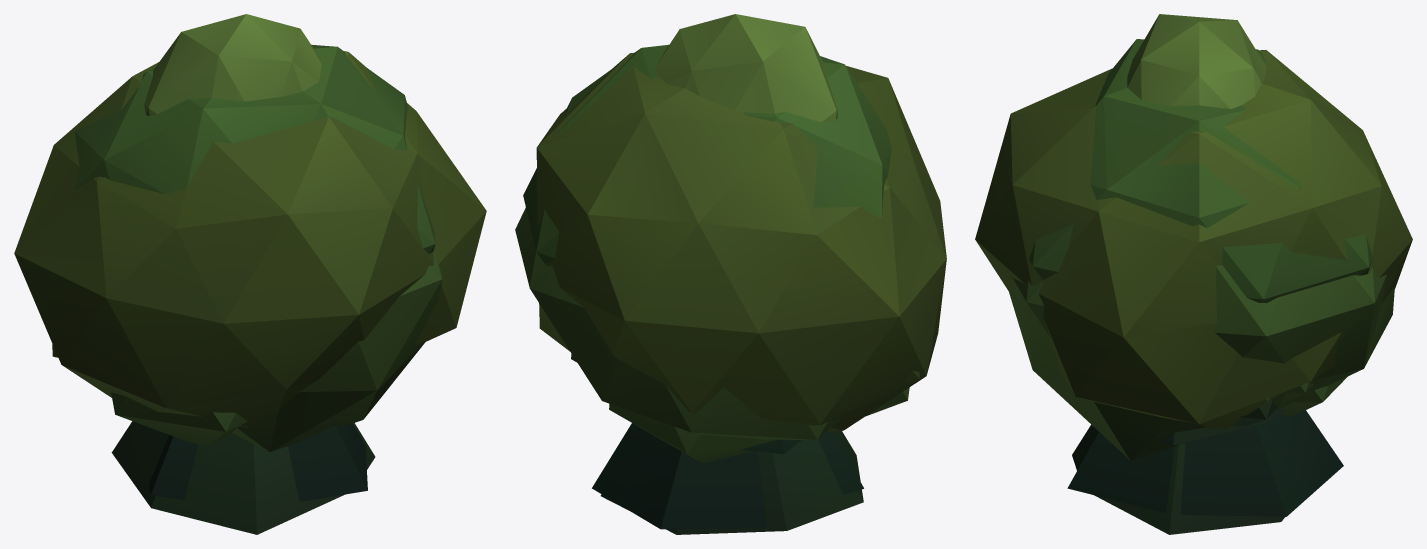
Rendered from trees.glb.
3 views of the same model, side by side, from view 1: azimuth 30°, elevation 25°; view 2: azimuth 150°, elevation 25°; view 3: azimuth 270°, elevation 25° (orthographic). The views are drawn at different scales.
Visible parts, largest first — view 1: Tree_chestnut_2_mesh, Tree_beech_2_mesh, Tree_maple_2_mesh, Tree_spruce_2_mesh, Tree_birch_2_mesh, Tree_fir_2_mesh, Tree_fir_1_mesh; view 2: Tree_chestnut_2_mesh, Tree_maple_2_mesh, Tree_birch_2_mesh, Tree_fir_2_mesh, Tree_beech_2_mesh, Tree_spruce_2_mesh, Tree_fir_1_mesh; view 3: Tree_chestnut_2_mesh, Tree_beech_2_mesh, Tree_maple_2_mesh, Tree_fir_2_mesh, Tree_birch_2_mesh, Tree_spruce_2_mesh, Tree_arve_2_mesh.
Boxes of the visible parts, x1,y1,x2,y2 form: Tree_chestnut_2_mesh: [14, 51, 486, 427]; Tree_beech_2_mesh: [74, 44, 435, 253]; Tree_maple_2_mesh: [111, 253, 442, 452]; Tree_spruce_2_mesh: [111, 421, 375, 534]; Tree_birch_2_mesh: [144, 14, 321, 115]; Tree_fir_2_mesh: [288, 423, 367, 501]; Tree_fir_1_mesh: [148, 435, 198, 499]; Tree_chestnut_2_mesh: [536, 52, 946, 432]; Tree_maple_2_mesh: [515, 207, 909, 463]; Tree_birch_2_mesh: [654, 14, 838, 122]; Tree_fir_2_mesh: [592, 423, 801, 529]; Tree_beech_2_mesh: [523, 44, 891, 263]; Tree_spruce_2_mesh: [600, 431, 863, 534]; Tree_fir_1_mesh: [818, 431, 863, 494]; Tree_chestnut_2_mesh: [975, 50, 1412, 428]; Tree_beech_2_mesh: [1029, 39, 1373, 303]; Tree_maple_2_mesh: [1009, 265, 1394, 460]; Tree_fir_2_mesh: [1067, 409, 1343, 516]; Tree_birch_2_mesh: [1127, 14, 1266, 108]; Tree_spruce_2_mesh: [1072, 424, 1284, 534]; Tree_arve_2_mesh: [1232, 400, 1277, 426].
Bounding box in the file's own units: 0.8572 × 1.02 × 0.8206.
